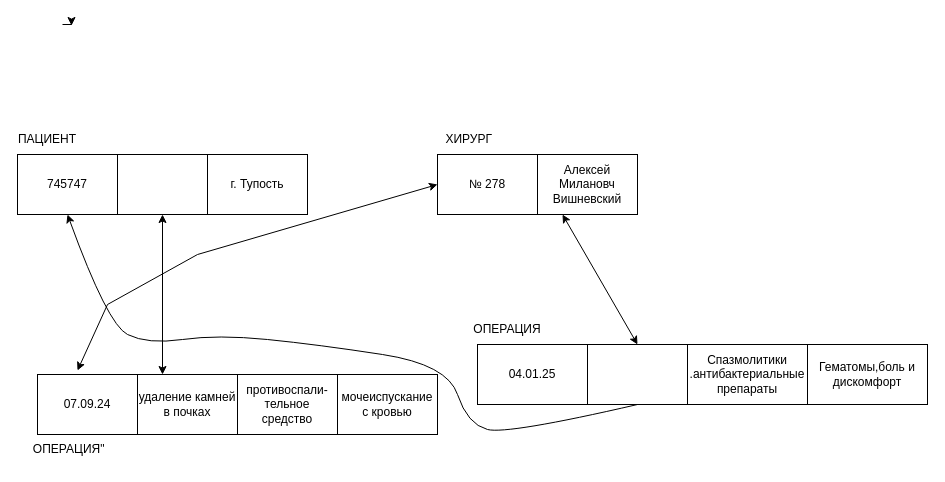
This 945x482 diagram has some shape labels left out. The shapes that lost their labels are listed below. From the top down, each one's centre as x and y in pixels, then its label:
the point at 162,184: Леопольд Александрович Павленко
the point at 637,374: повторное уаление камней в почках
